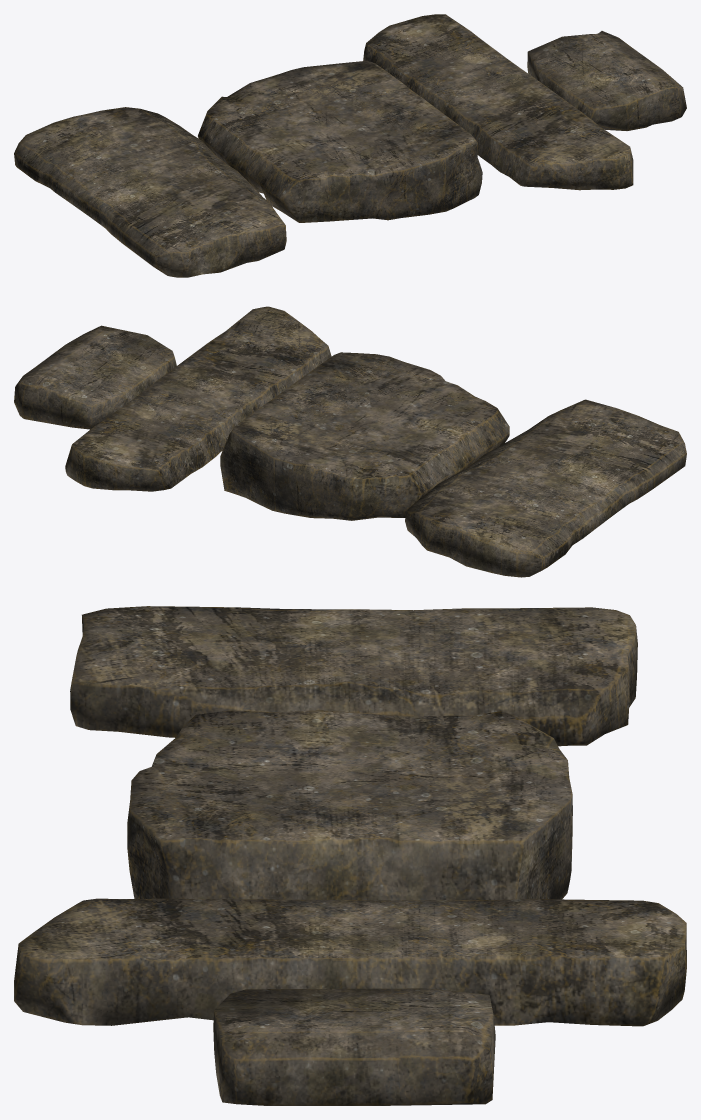
The model's file is flat_rocks.glb.
The picture shows the model from 3 angles, top to bottom: view 1: azimuth 30°, elevation 25°; view 2: azimuth 150°, elevation 25°; view 3: azimuth 270°, elevation 25°; orthographic projection. The views are drawn at different scales.
Visible parts, largest first — view 1: flatrock2, flatrock1, flatrocks3, flatrocks4; view 2: flatrock2, flatrock1, flatrocks3, flatrocks4; view 3: flatrock2, flatrocks3, flatrock1, flatrocks4.
Boxes of the visible parts, left/top/right/bottom form: flatrock2: left=198, top=60, right=482, bottom=222; flatrock1: left=14, top=107, right=286, bottom=277; flatrocks3: left=363, top=14, right=633, bottom=190; flatrocks4: left=527, top=31, right=686, bottom=130; flatrock2: left=220, top=352, right=509, bottom=520; flatrock1: left=405, top=399, right=686, bottom=577; flatrocks3: left=65, top=306, right=331, bottom=491; flatrocks4: left=14, top=325, right=176, bottom=429; flatrock2: left=127, top=710, right=572, bottom=900; flatrocks3: left=14, top=898, right=686, bottom=1026; flatrock1: left=70, top=606, right=637, bottom=746; flatrocks4: left=213, top=988, right=495, bottom=1105.
Size of the model in its own units: 17.91 by 1.88 by 10.83.
Materials: 1 (1 with a texture image).
